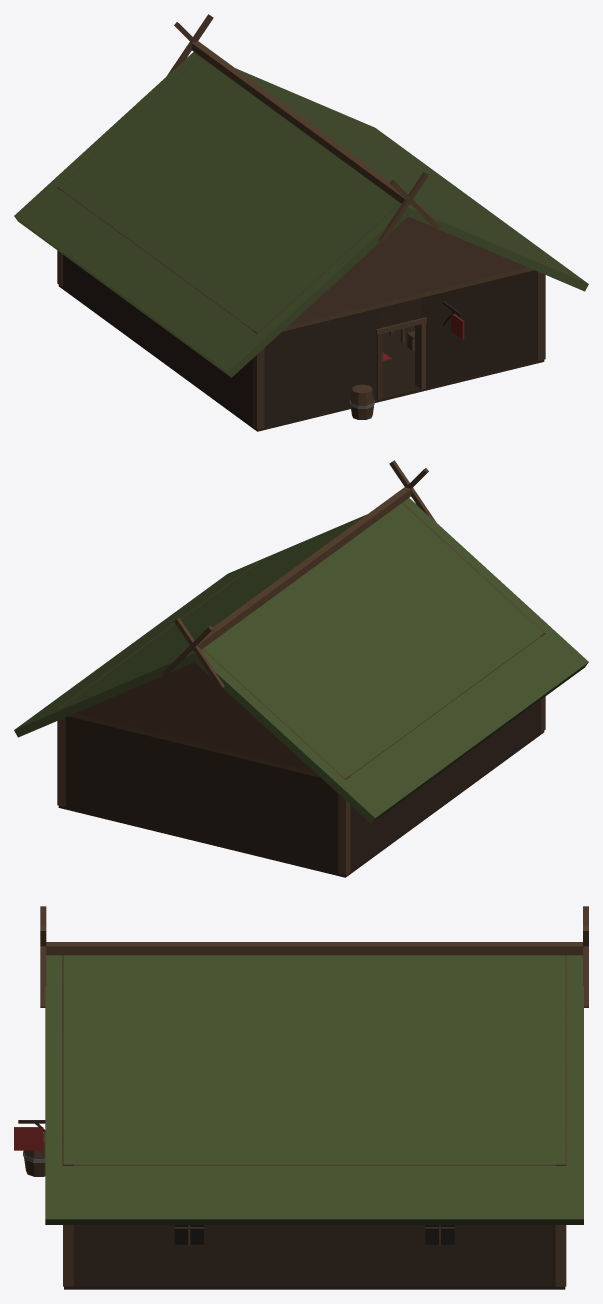
Rendered from walk_rime_tavern.glb.
3 renders of one model, top to bottom at view 1: azimuth 30°, elevation 25°; view 2: azimuth 150°, elevation 25°; view 3: azimuth 270°, elevation 25°, orthographic. The views are drawn at different scales.
Parts seen in each view (by area): view 1: walk_rime_tavern_roof, walk_rime_tavern; view 2: walk_rime_tavern_roof, walk_rime_tavern; view 3: walk_rime_tavern_roof, walk_rime_tavern.
Boxes of the visible parts, <box> form: walk_rime_tavern_roof: <box>14,14,588,377</box>; walk_rime_tavern: <box>57,116,545,431</box>; walk_rime_tavern_roof: <box>14,460,588,823</box>; walk_rime_tavern: <box>57,562,545,877</box>; walk_rime_tavern_roof: <box>40,906,588,1224</box>; walk_rime_tavern: <box>14,1120,566,1289</box>.
Size of what is drawn, in the model's own units: 12.6 by 7.55 by 13.77.
2 materials, 2 textured.
